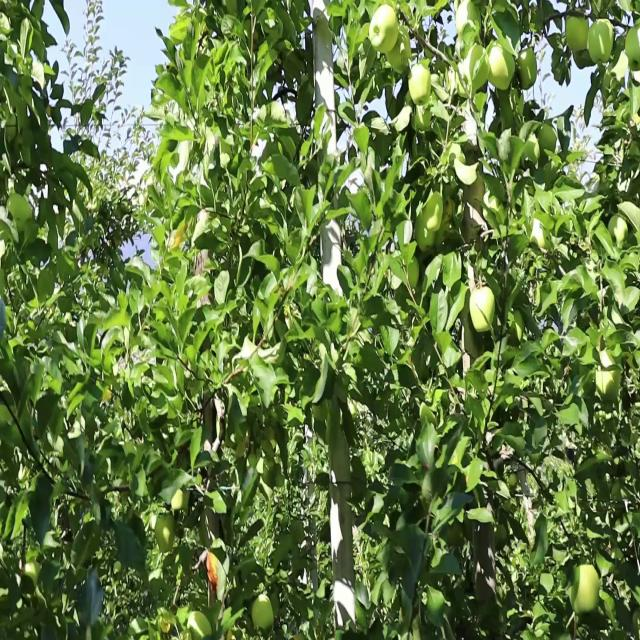apple: (456, 44, 489, 101), (568, 564, 601, 616), (369, 5, 398, 53), (587, 15, 614, 64), (595, 351, 621, 400), (490, 44, 514, 96), (469, 286, 495, 334), (454, 0, 482, 43), (387, 25, 412, 71), (518, 43, 539, 93), (408, 64, 432, 105), (564, 10, 588, 51), (414, 212, 438, 253), (6, 195, 32, 230), (624, 18, 640, 74), (155, 513, 176, 555), (421, 192, 444, 230), (253, 595, 274, 635), (187, 610, 211, 640), (540, 118, 558, 156), (608, 214, 628, 246), (172, 488, 190, 514)
